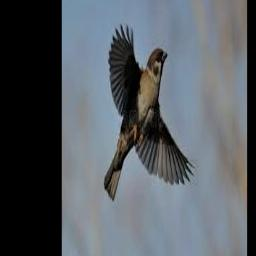Sparrow: (104, 22, 195, 201)
